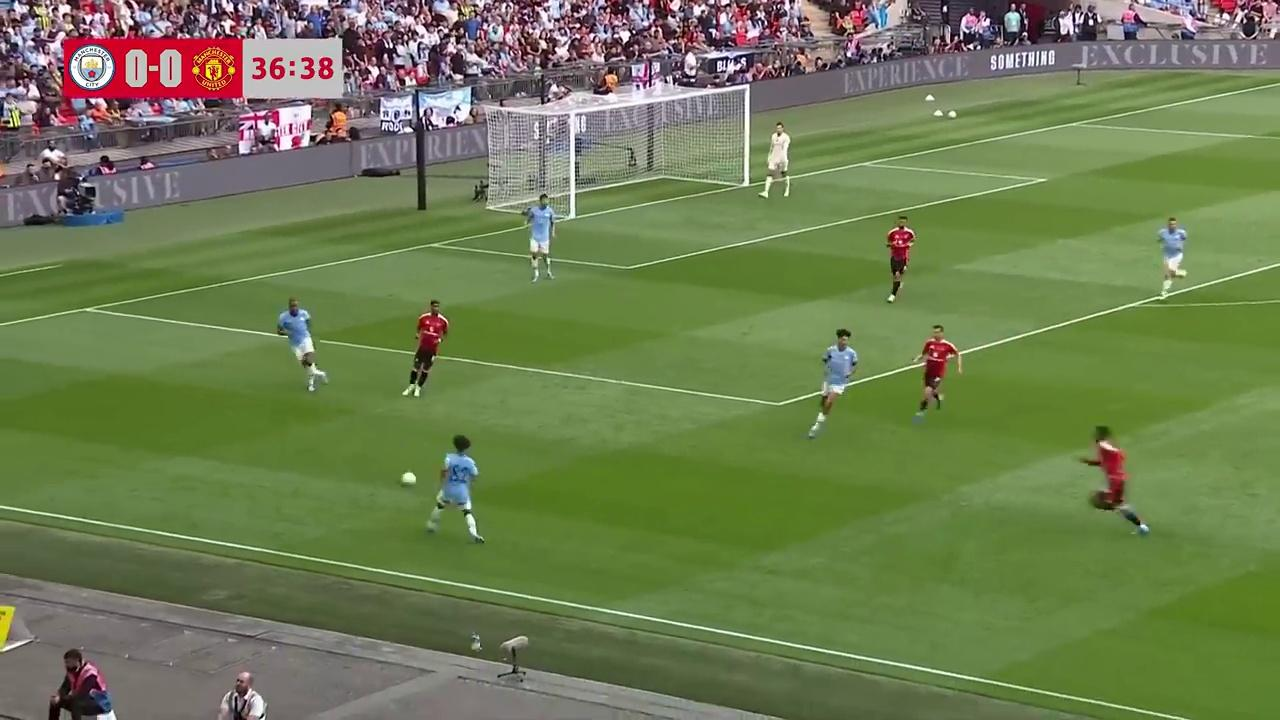ball: (400, 468, 418, 486)
player: (1075, 426, 1151, 531), (424, 434, 486, 543), (807, 329, 858, 441), (910, 325, 962, 423), (282, 297, 328, 393), (402, 300, 449, 388), (885, 216, 915, 302), (1156, 216, 1188, 295), (526, 199, 556, 282), (762, 125, 791, 199)
